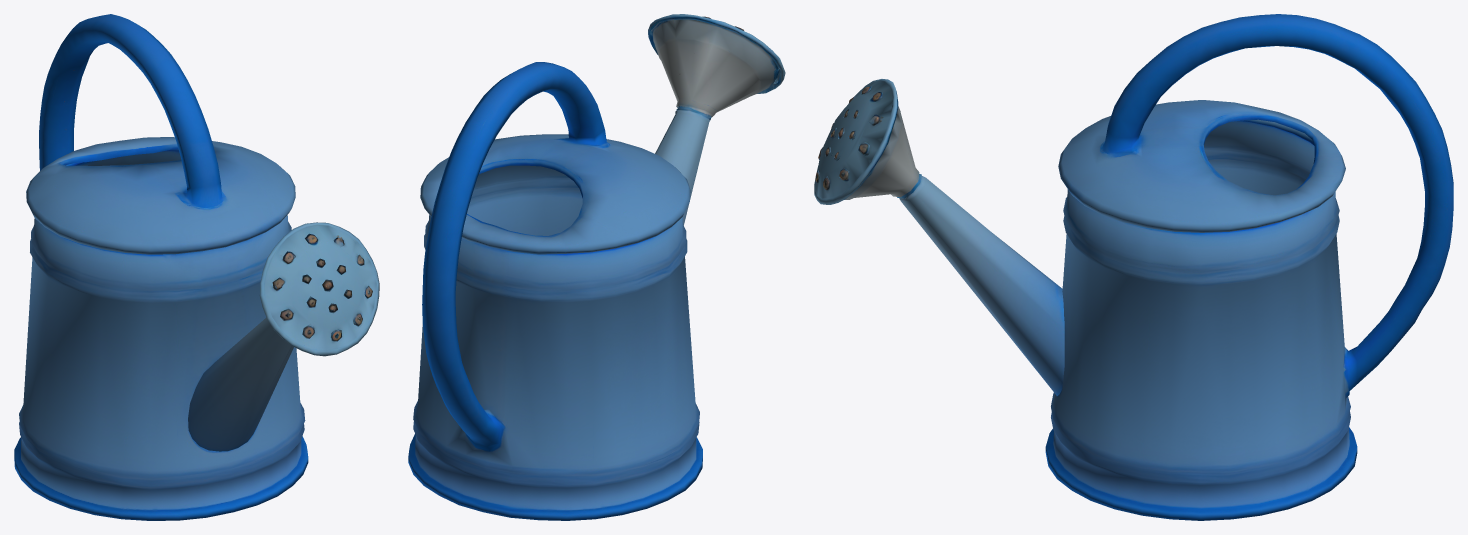
File: watering_can.glb
The picture shows the model from 3 angles, left to right: view 1: azimuth 30°, elevation 25°; view 2: azimuth 150°, elevation 25°; view 3: azimuth 270°, elevation 25°; orthographic projection. The views are drawn at different scales.
Visible parts, largest first — view 1: tripo_node_028af63a-bf08-4e14-9d0d-d92440bd2bf5; view 2: tripo_node_028af63a-bf08-4e14-9d0d-d92440bd2bf5; view 3: tripo_node_028af63a-bf08-4e14-9d0d-d92440bd2bf5.
Part boxes in pixels (left/top/right/bottom): tripo_node_028af63a-bf08-4e14-9d0d-d92440bd2bf5: left=14, top=14, right=379, bottom=520; tripo_node_028af63a-bf08-4e14-9d0d-d92440bd2bf5: left=408, top=14, right=785, bottom=520; tripo_node_028af63a-bf08-4e14-9d0d-d92440bd2bf5: left=814, top=14, right=1453, bottom=520.
Bounding box in the file's own units: 0.2988 × 0.45 × 0.5942.
Materials: 1 (1 with a texture image).
